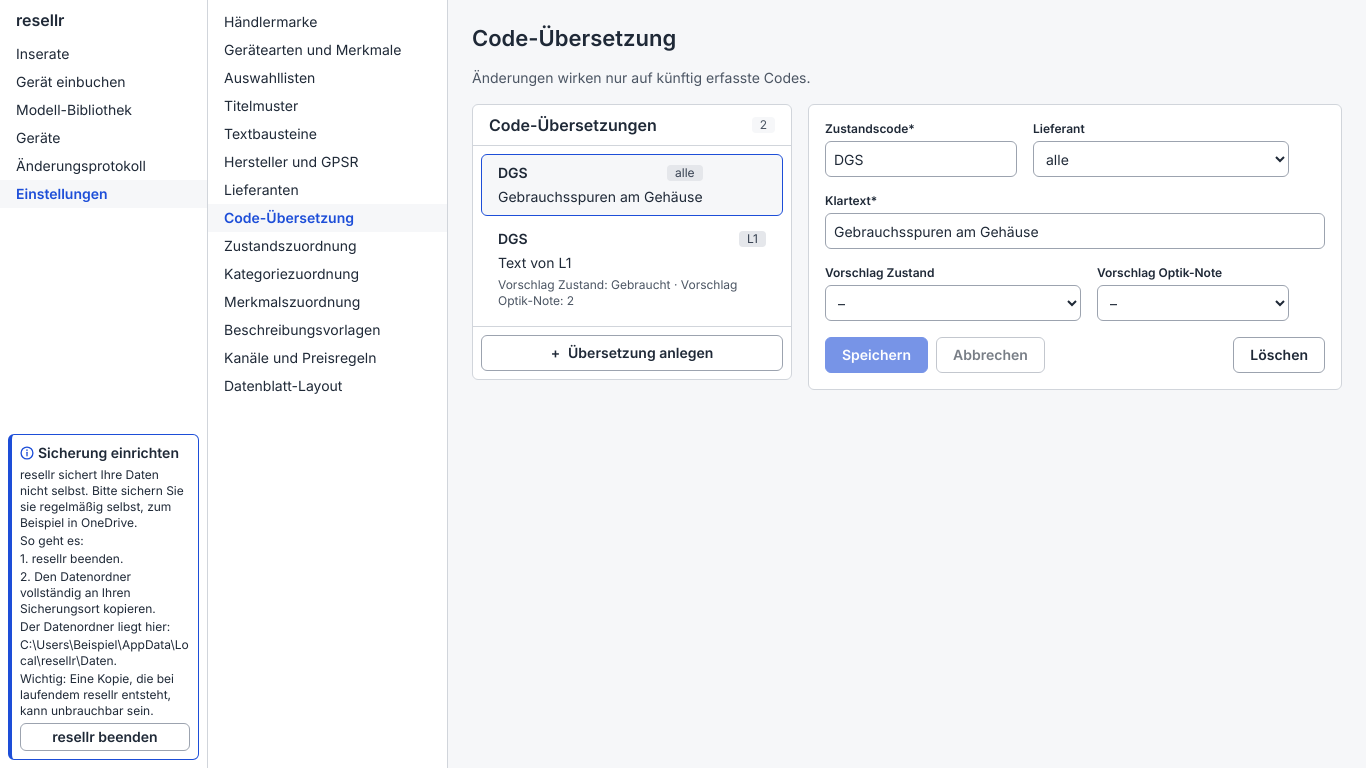
it: UI-033 condition codes (CU-100) › UI-033.default offers "alle" and the active suppliers, and the active condition values with grades 1 to 5
The width and height of the screenshot is (1366, 768).
Expected: the field labelled "Zustandscode*" holds "DGS", [825,141,1017,177]
Click the 2nd button at (535, 262), box [481,220,783,318]
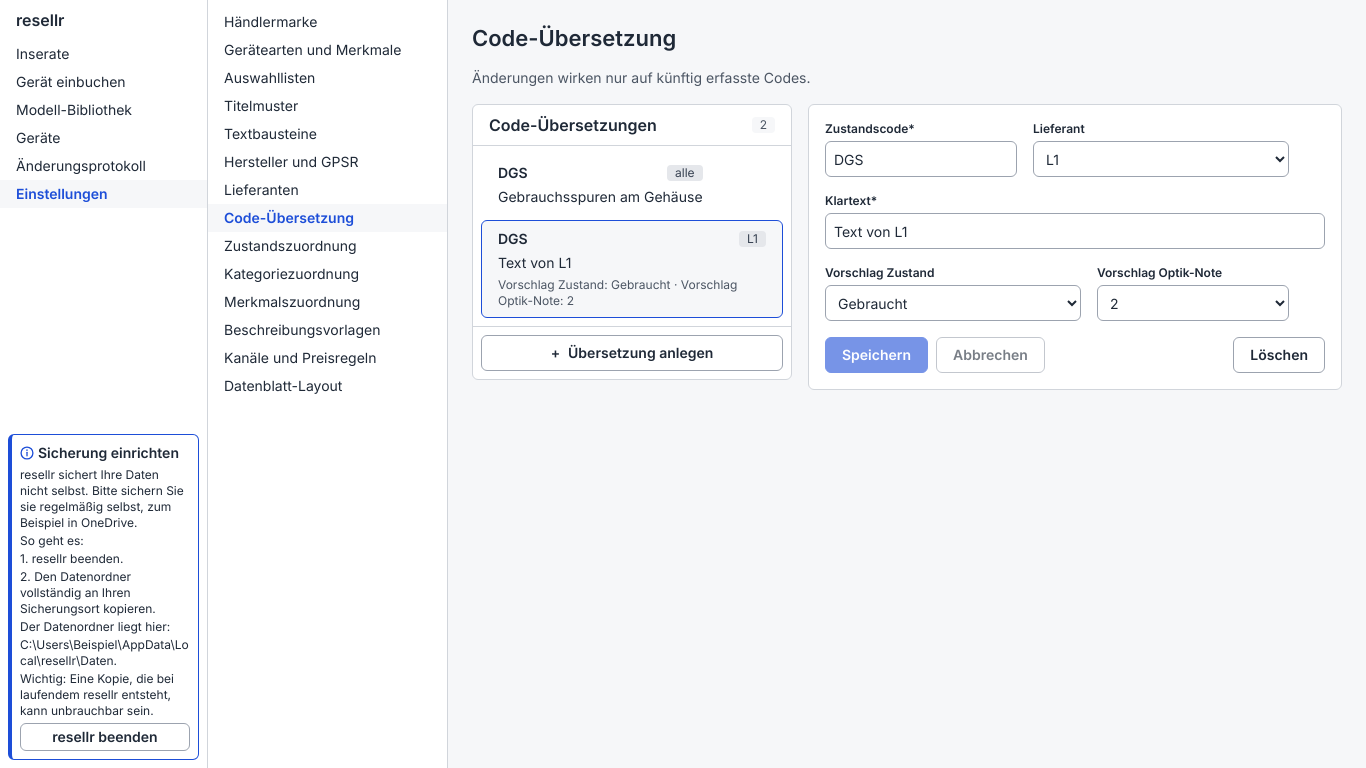
Expected: the dropdown labelled "Lieferant" shows "L1", [1033,141,1289,177]
Expected: the dropdown labelled "Vorschlag Zustand" shows "Gebraucht", [825,285,1081,321]
Expected: the dropdown labelled "Vorschlag Optik-Note" shows "2", [1097,285,1289,321]
